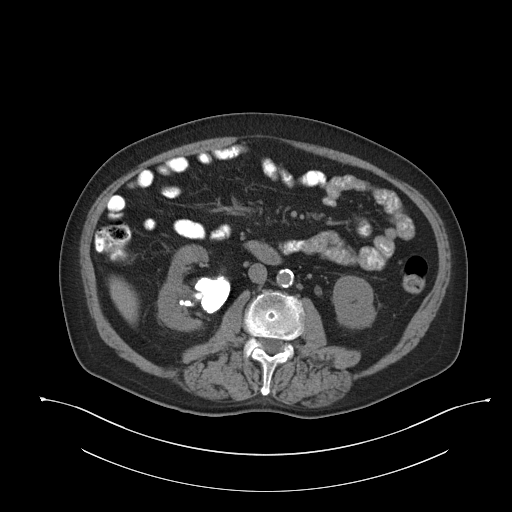Lesion: (175, 273, 237, 317)
